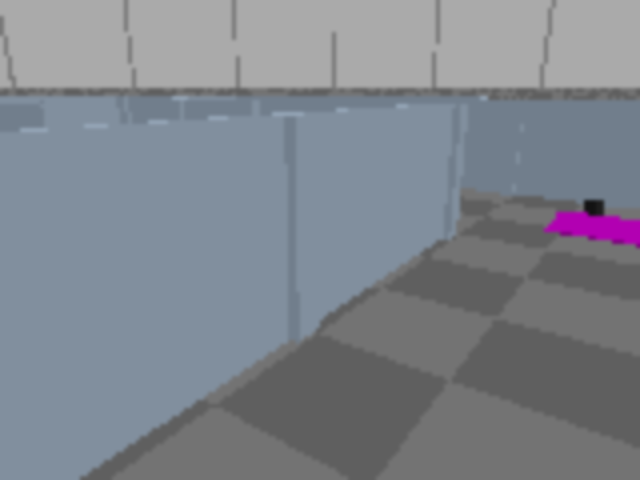goal_zone: (544, 210, 638, 249)
puck: (583, 198, 605, 215)
